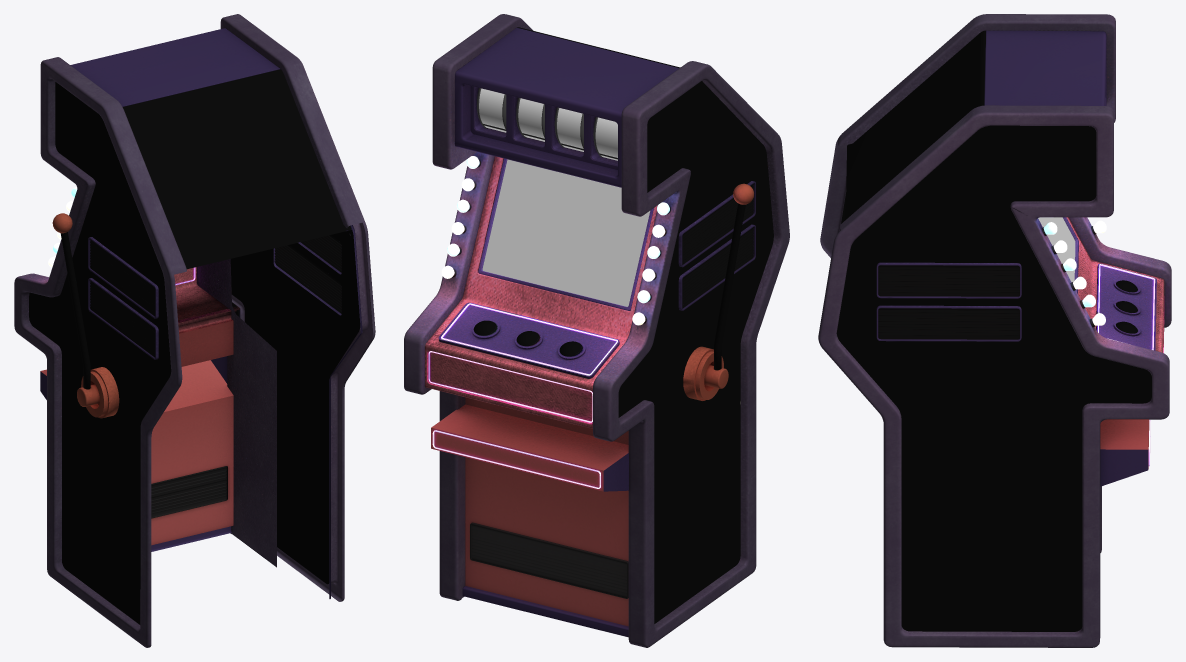
File: slotMachineFinal.glb
3 views of the same model, side by side, from view 1: azimuth 30°, elevation 25°; view 2: azimuth 150°, elevation 25°; view 3: azimuth 270°, elevation 25° (orthographic). The views are drawn at different scales.
Parts seen in each view (by area): view 1: Sphere.001; view 2: Sphere.001, Sphere.023, Sphere.006, Sphere.014, Sphere.018, Sphere.015; view 3: Sphere.001, Sphere.023.
Part boxes in pixels (x1,y1,x2,y2): Sphere.001: [14, 14, 375, 647]; Sphere.001: [404, 14, 789, 647]; Sphere.023: [482, 159, 650, 306]; Sphere.006: [477, 88, 506, 132]; Sphere.014: [554, 107, 583, 151]; Sphere.018: [516, 97, 544, 141]; Sphere.015: [593, 117, 617, 160]; Sphere.001: [818, 14, 1171, 647]; Sphere.023: [1038, 217, 1075, 281].
Bounding box in the file's own units: 1.2 × 2.42 × 1.45.
4 materials, 1 textured.
